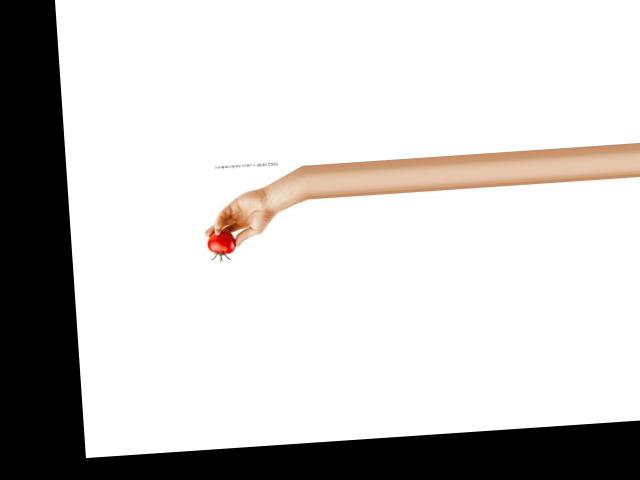tomato: (206, 228, 237, 254)
